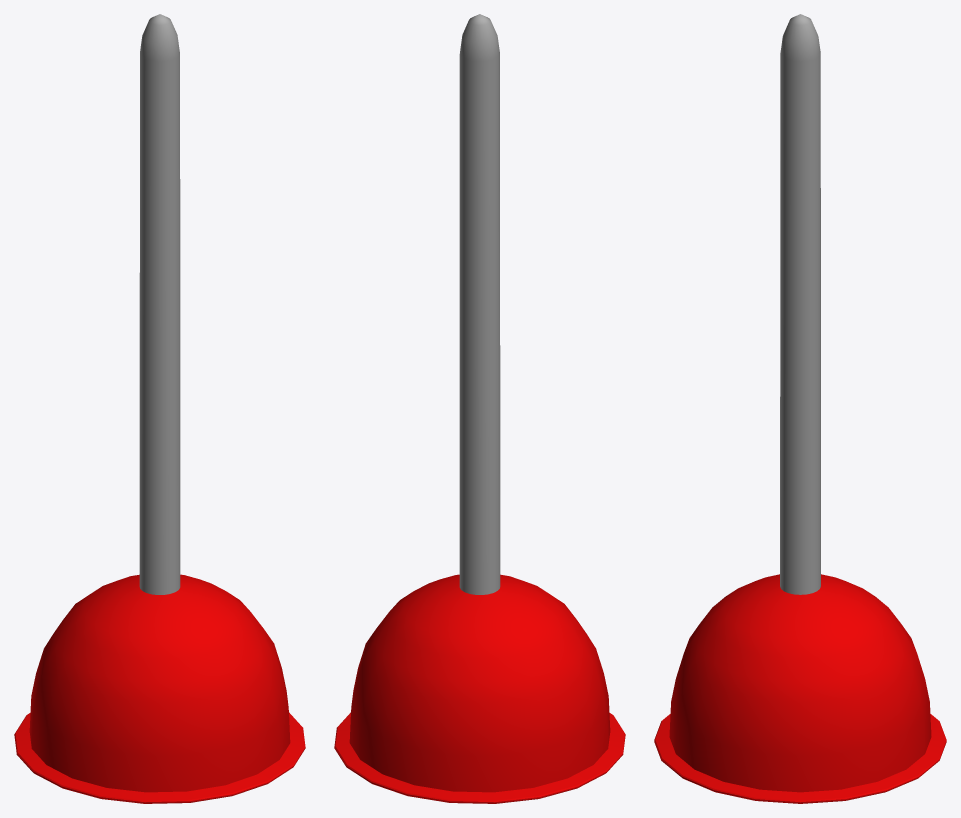
Rendered from ventouse.fbx.
3 renders of one model, left to right at view 1: azimuth 30°, elevation 25°; view 2: azimuth 150°, elevation 25°; view 3: azimuth 270°, elevation 25°, orthographic.
Visible parts, largest first — view 1: pCylinder2; view 2: pCylinder2; view 3: pCylinder2.
Boxes of the visible parts, bbox=[...] form: pCylinder2: bbox=[14, 14, 305, 803]; pCylinder2: bbox=[334, 14, 625, 803]; pCylinder2: bbox=[654, 14, 946, 803].
Bounding box in the file's own units: 53.17 × 146 × 53.17.
